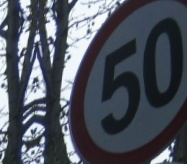Speed limit: (81, 22, 179, 144)
